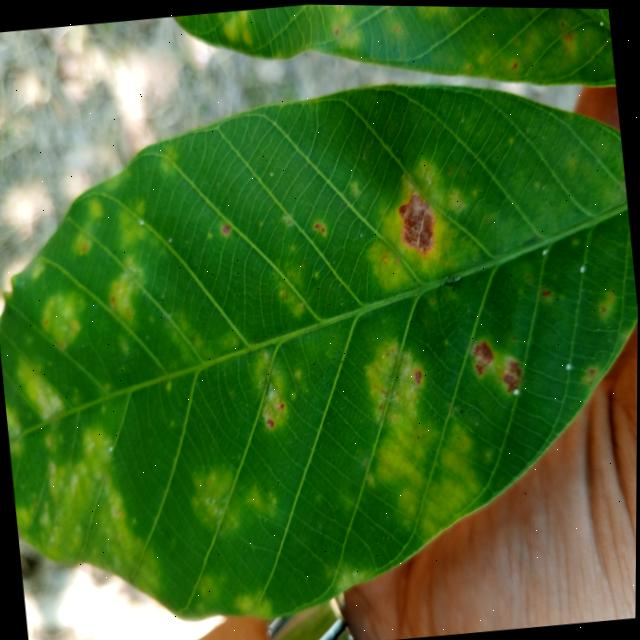Leaf-Blight: (396, 193, 436, 252)
